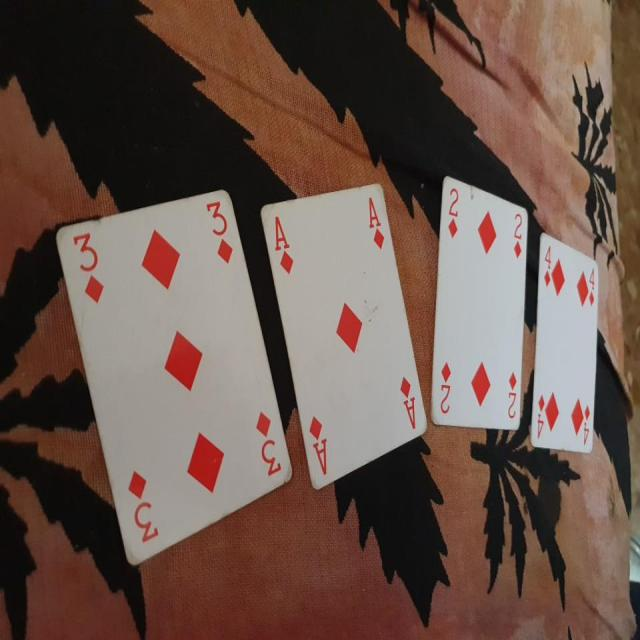2 Diamonds: (424, 175, 529, 432)
3 Diamonds: (50, 188, 290, 569)
4 Diamonds: (529, 234, 601, 460)
A Diamonds: (256, 178, 429, 492)
